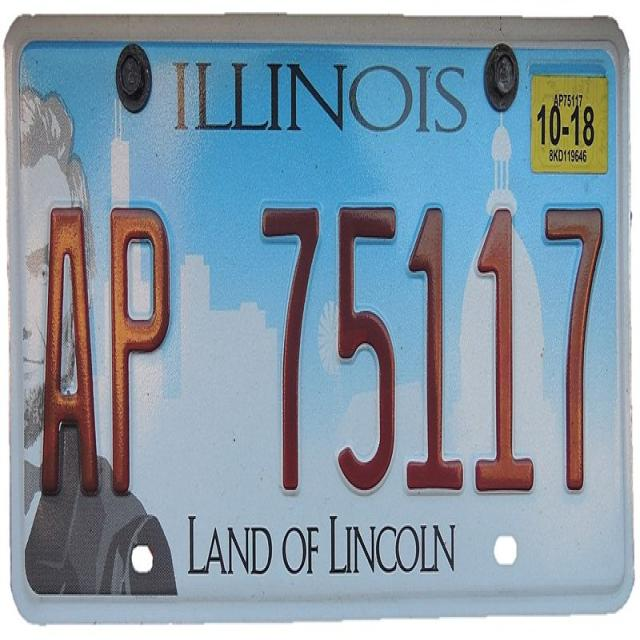placa: (14, 164, 620, 514)
